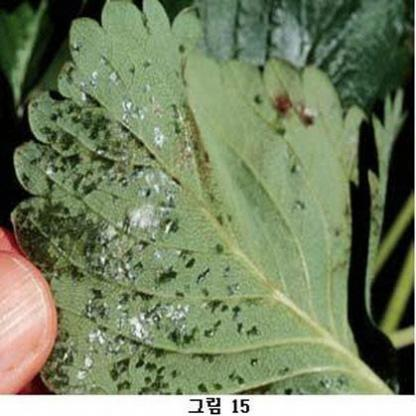Strawberry_Angular_LeafSpot: (10, 1, 372, 396)
